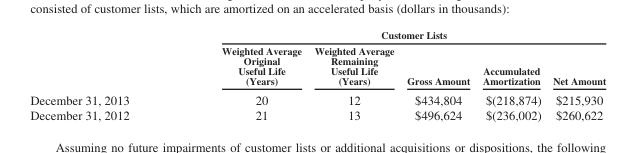table: (29, 29, 605, 122)
table column: (29, 29, 174, 122), (174, 29, 307, 122), (307, 29, 399, 122), (399, 29, 475, 122), (475, 29, 546, 122), (546, 29, 605, 122)
table column header: (29, 29, 605, 89)
table row: (29, 42, 605, 89), (29, 89, 605, 107), (29, 107, 605, 122), (29, 29, 605, 42)
table spanning cell: (174, 29, 605, 42)
